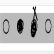correct: (16, 16, 26, 37)
not correct: (29, 6, 38, 39)
